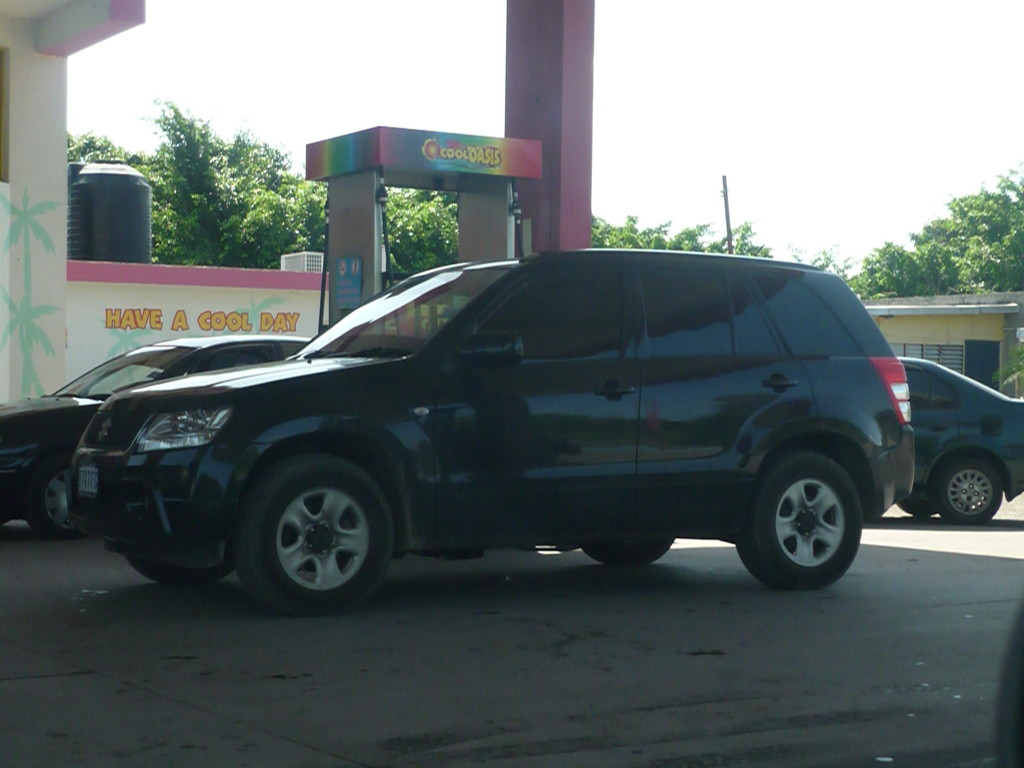Car: (63, 246, 913, 616), (0, 337, 312, 540), (895, 357, 1023, 526)
